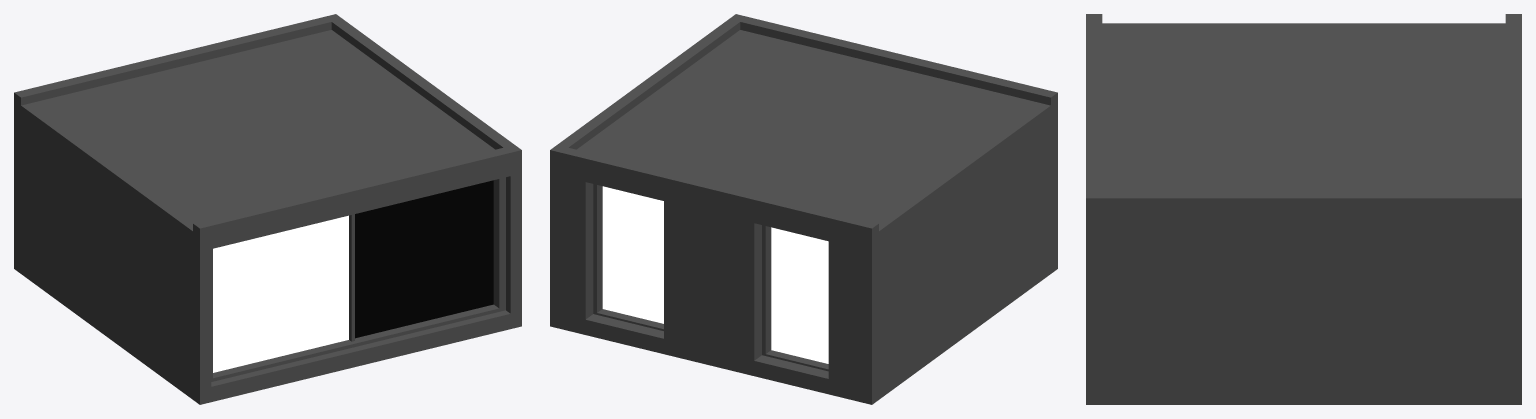
The model's file is immeuble5Haut2.fbx.
3 renders of one model, left to right at view 1: azimuth 30°, elevation 25°; view 2: azimuth 150°, elevation 25°; view 3: azimuth 270°, elevation 25°, orthographic. The views are drawn at different scales.
Parts seen in each view (by area): view 1: Cube.026; view 2: Cube.026; view 3: Cube.026.
Part boxes in pixels (x1,y1,x2,y2): Cube.026: (14, 14, 521, 404); Cube.026: (550, 14, 1057, 404); Cube.026: (1086, 14, 1521, 404).
Size of the model in its own units: 2000 by 1047 by 2000.
